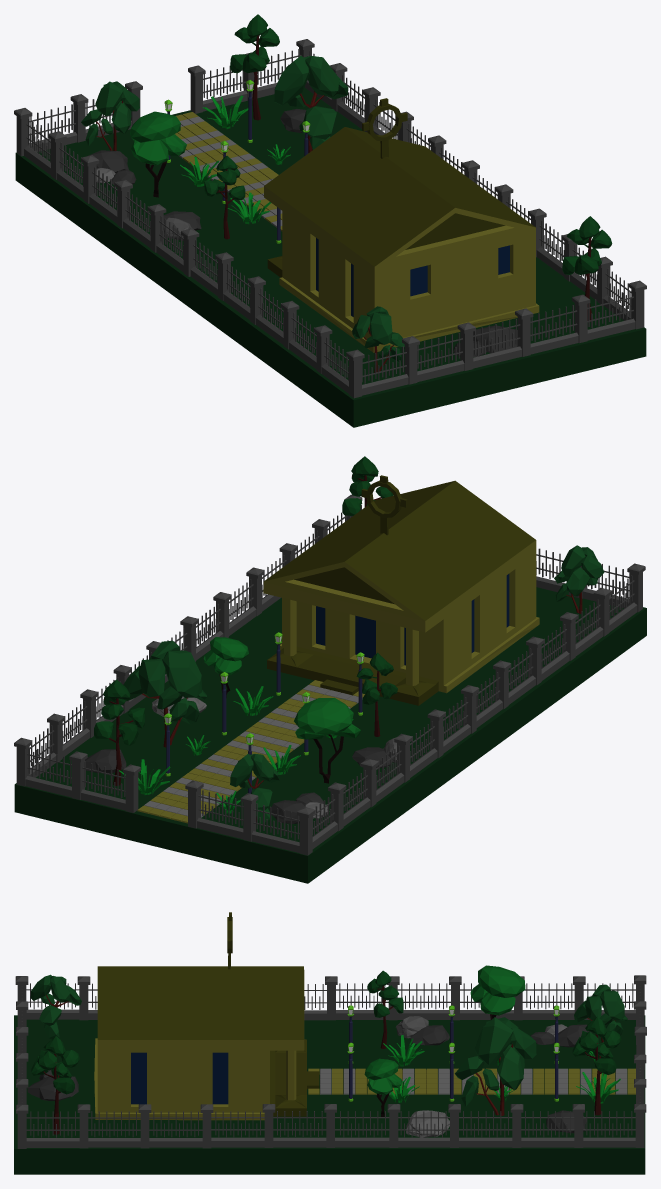
The model's file is Bank.FBX.
The picture shows the model from 3 angles, top to bottom: view 1: azimuth 30°, elevation 25°; view 2: azimuth 150°, elevation 25°; view 3: azimuth 270°, elevation 25°; orthographic projection. The views are drawn at different scales.
Visible parts, largest first — view 1: bank; view 2: bank; view 3: bank.
Part boxes in pixels (bbox=[...]): bank: bbox=[14, 14, 646, 427]; bank: bbox=[14, 456, 646, 883]; bank: bbox=[14, 912, 646, 1174].
Bounding box in the file's own units: 10092 × 6783 × 20050.
